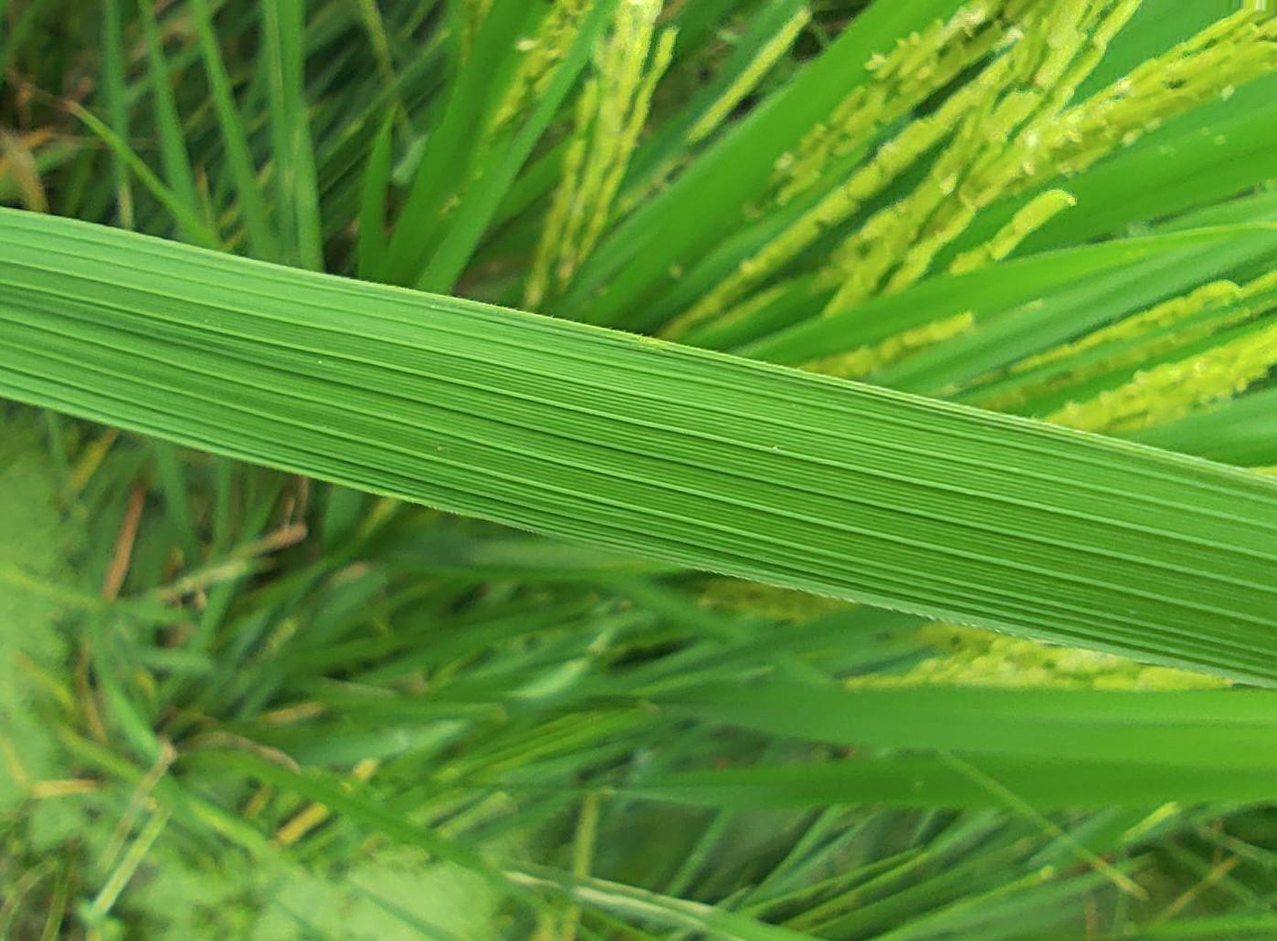Healthy: (1, 207, 1276, 685)
